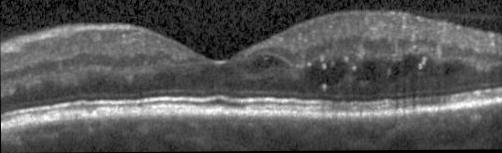intraretinal_cyst: (310, 60, 350, 87), (252, 55, 278, 71), (359, 62, 377, 82), (402, 54, 419, 75), (441, 62, 462, 75), (387, 65, 399, 81)
